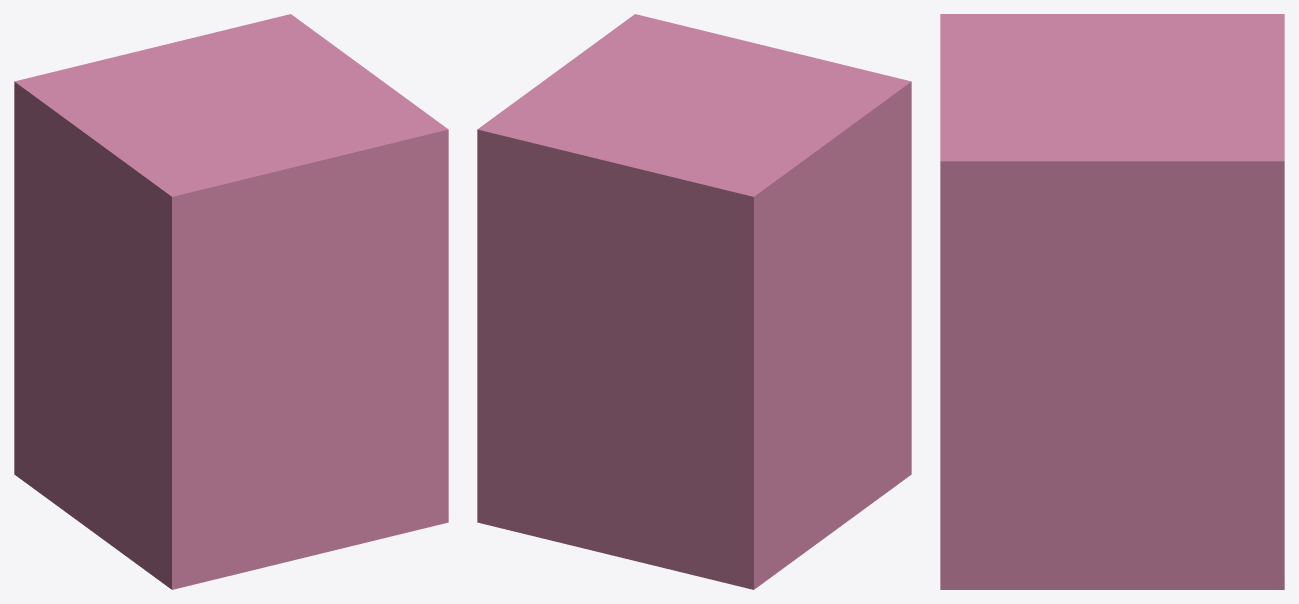
Rendered from tree_oak_large_c.dae.
The picture shows the model from 3 angles, left to right: view 1: azimuth 30°, elevation 25°; view 2: azimuth 150°, elevation 25°; view 3: azimuth 270°, elevation 25°; orthographic projection. The views are drawn at different scales.
Visible parts, largest first — view 1: Untitled; view 2: Untitled; view 3: Untitled.
Boxes of the visible parts, x1,y1,x2,y2 form: Untitled: [14, 14, 448, 589]; Untitled: [477, 14, 911, 589]; Untitled: [940, 14, 1284, 589].
Bounding box in the file's own units: 6.33 × 6.26 × 8.6.
